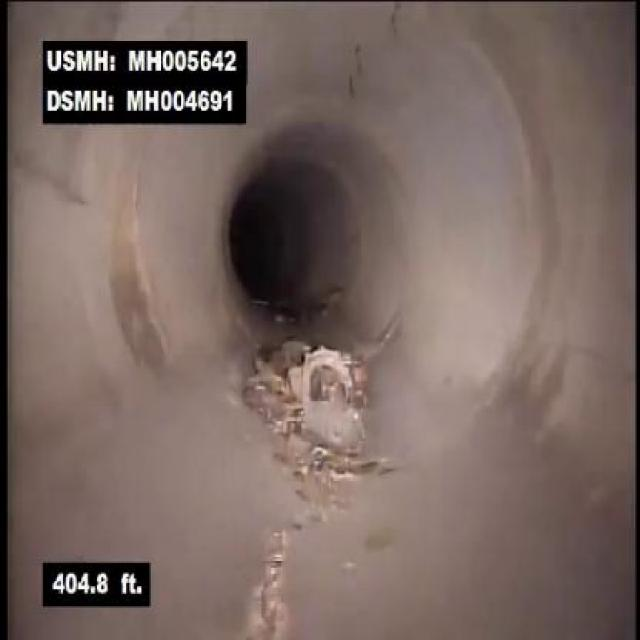Debris: (230, 310, 384, 472)
